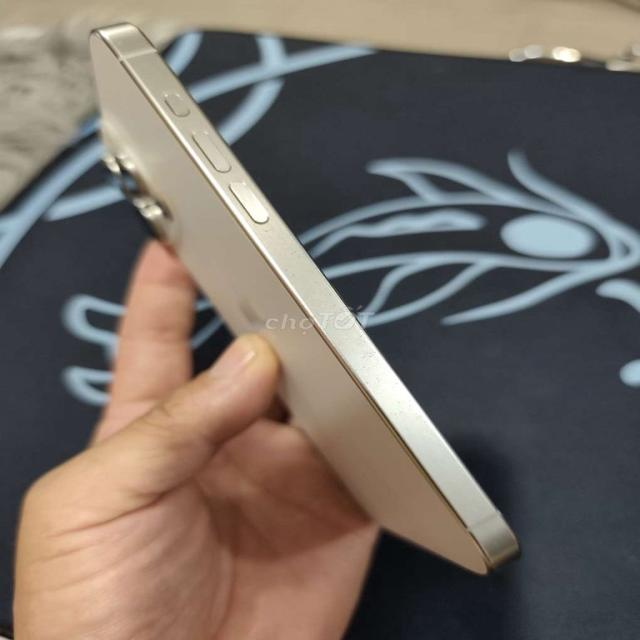gen_15: (78, 20, 530, 594)
